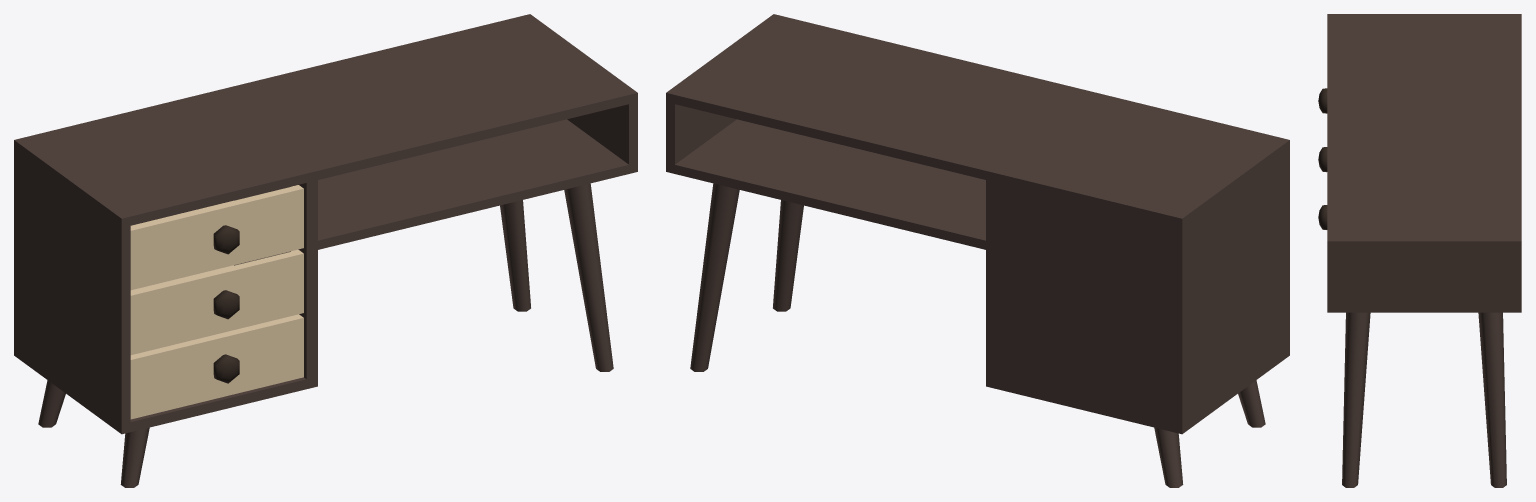
The model's file is Desk_01.fbx.
3 views of the same model, side by side, from view 1: azimuth 30°, elevation 25°; view 2: azimuth 150°, elevation 25°; view 3: azimuth 270°, elevation 25° (orthographic). The views are drawn at different scales.
Visible parts, largest first — view 1: Desk_01, Desk_01_Drawer_Middle, Desk_01_Drawer_Upper, Desk_01_Drawer_Lower; view 2: Desk_01; view 3: Desk_01.
Part boxes in pixels (x1,y1,x2,y2): Desk_01: [14, 14, 637, 487]; Desk_01_Drawer_Middle: [130, 249, 303, 354]; Desk_01_Drawer_Upper: [130, 185, 303, 290]; Desk_01_Drawer_Lower: [130, 314, 303, 419]; Desk_01: [666, 14, 1289, 487]; Desk_01: [1327, 14, 1521, 487].
Size of the model in its own units: 1.61 by 0.8338 by 0.6078.
